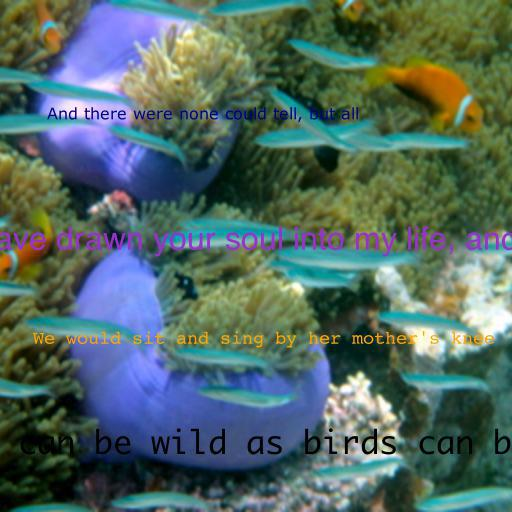Apple Chancery: (0, 226, 512, 257)
Courier: (33, 331, 495, 348)
Monaco: (0, 428, 512, 462)
Verdana: (47, 107, 359, 123)
